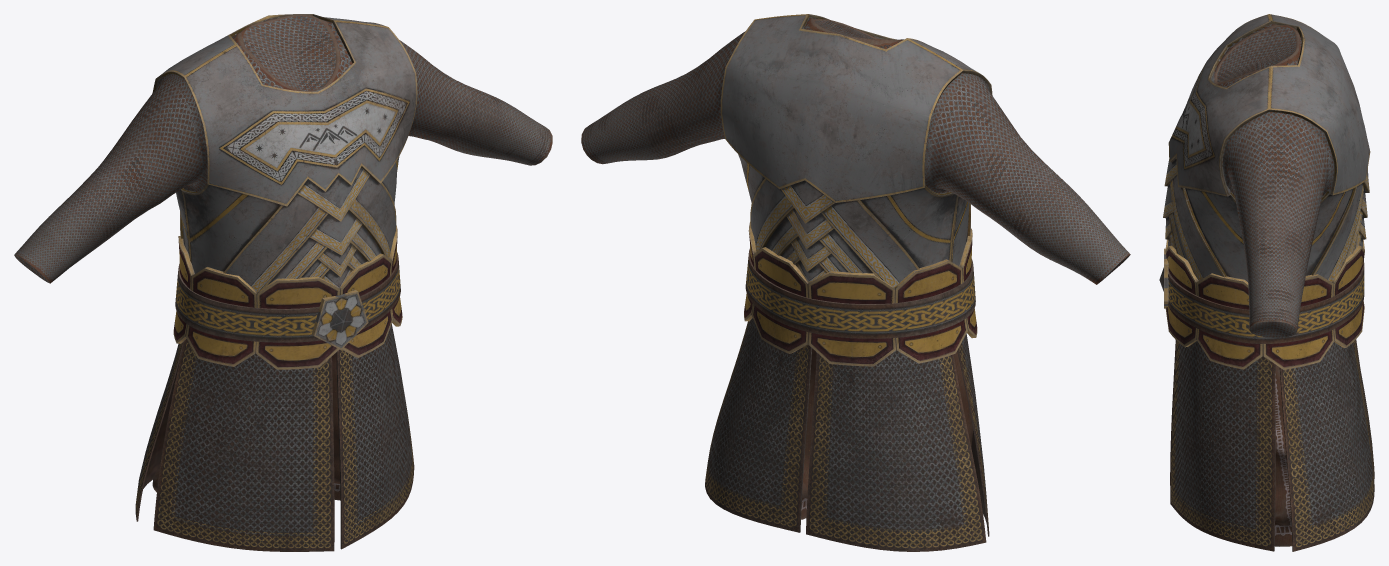
File: sk_dwarf_dain_chest_med_c.fbx
3 views of the same model, side by side, from view 1: azimuth 30°, elevation 25°; view 2: azimuth 150°, elevation 25°; view 3: azimuth 270°, elevation 25° (orthographic). The views are drawn at different scales.
Visible parts, largest first — view 1: sk_dwarf_dain_chest_med_c.0, sk_dwarf_dain_chest_med_c.1, sk_dwarf_dain_chest_med_c.2; view 2: sk_dwarf_dain_chest_med_c.0, sk_dwarf_dain_chest_med_c.1, sk_dwarf_dain_chest_med_c.2; view 3: sk_dwarf_dain_chest_med_c.0, sk_dwarf_dain_chest_med_c.1, sk_dwarf_dain_chest_med_c.2.
Boxes of the visible parts, x1=… form: sk_dwarf_dain_chest_med_c.0: x1=14, y1=14, x2=552, y2=291; sk_dwarf_dain_chest_med_c.1: x1=135, y1=324, x2=414, y2=551; sk_dwarf_dain_chest_med_c.2: x1=173, y1=225, x2=402, y2=369; sk_dwarf_dain_chest_med_c.0: x1=581, y1=14, x2=1130, y2=287; sk_dwarf_dain_chest_med_c.1: x1=705, y1=318, x2=989, y2=551; sk_dwarf_dain_chest_med_c.2: x1=744, y1=222, x2=977, y2=366; sk_dwarf_dain_chest_med_c.0: x1=1163, y1=14, x2=1370, y2=337; sk_dwarf_dain_chest_med_c.1: x1=1170, y1=339, x2=1374, y2=551; sk_dwarf_dain_chest_med_c.2: x1=1159, y1=239, x2=1364, y2=369.
Size of the model in its own units: 1.16 by 0.4289 by 1.02.
Materials: 3 (3 with a texture image).
